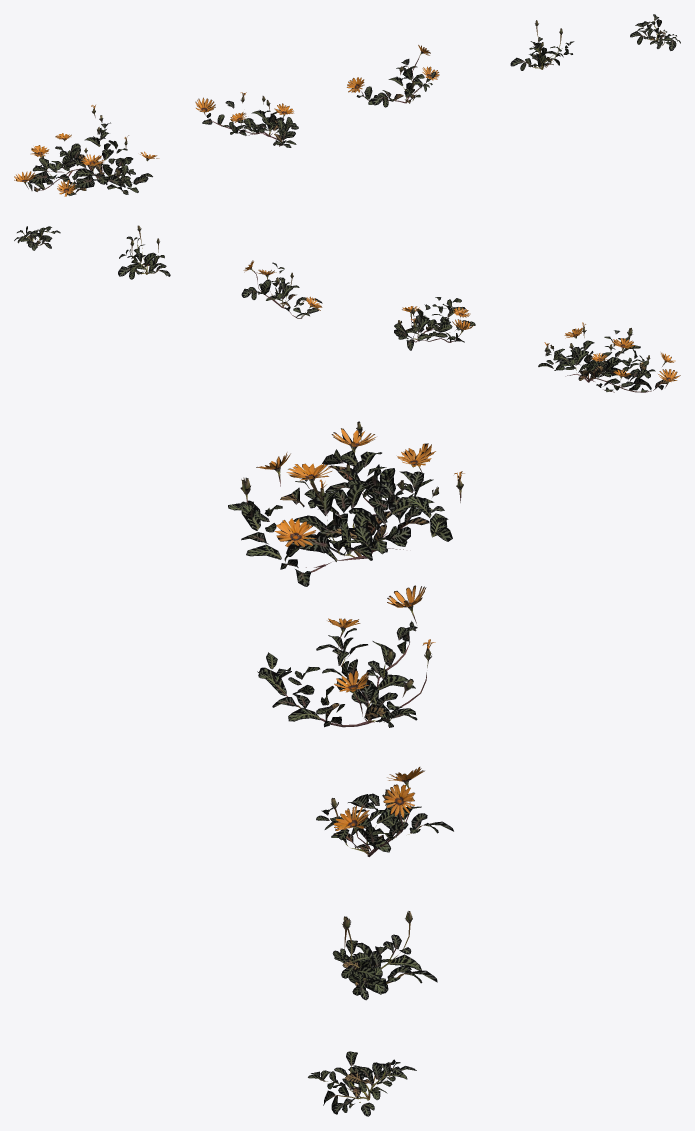
Rendered from flower_ursinia.glb.
3 views of the same model, one above another, from view 1: azimuth 30°, elevation 25°; view 2: azimuth 150°, elevation 25°; view 3: azimuth 270°, elevation 25° (orthographic). The views are drawn at different scales.
Visible parts, largest first — view 1: flower_ursinia_a_LOD0, flower_ursinia_b_LOD0, flower_ursinia_c_LOD0, flower_ursinia_d_LOD0, flower_ursinia_e_LOD0; view 2: flower_ursinia_a_LOD0, flower_ursinia_b_LOD0, flower_ursinia_c_LOD0, flower_ursinia_d_LOD0, flower_ursinia_e_LOD0; view 3: flower_ursinia_a_LOD0, flower_ursinia_b_LOD0, flower_ursinia_c_LOD0, flower_ursinia_d_LOD0, flower_ursinia_e_LOD0.
Boxes of the visible parts, x1,y1,x2,y2 form: flower_ursinia_a_LOD0: (14, 105, 159, 196); flower_ursinia_b_LOD0: (195, 92, 298, 147); flower_ursinia_c_LOD0: (347, 45, 439, 107); flower_ursinia_d_LOD0: (510, 20, 574, 70); flower_ursinia_e_LOD0: (630, 14, 680, 50); flower_ursinia_a_LOD0: (538, 322, 680, 392); flower_ursinia_b_LOD0: (394, 297, 475, 350); flower_ursinia_c_LOD0: (241, 260, 322, 318); flower_ursinia_d_LOD0: (118, 225, 170, 279); flower_ursinia_e_LOD0: (14, 226, 60, 250); flower_ursinia_a_LOD0: (228, 421, 464, 586); flower_ursinia_b_LOD0: (257, 585, 435, 727); flower_ursinia_c_LOD0: (316, 767, 453, 856); flower_ursinia_d_LOD0: (332, 911, 437, 1000); flower_ursinia_e_LOD0: (308, 1051, 416, 1116).
Size of the model in its own units: 2.19 by 0.1717 by 0.3433.
Materials: 1 (1 with a texture image).
